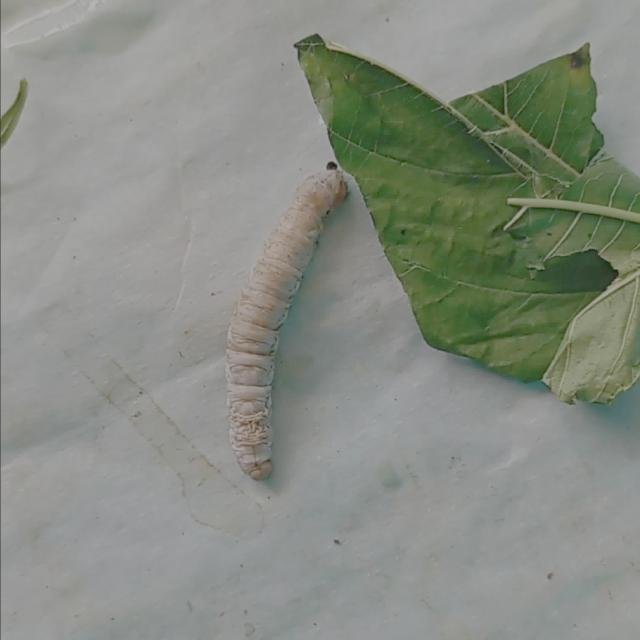Grasserie: (181, 138, 371, 501)
